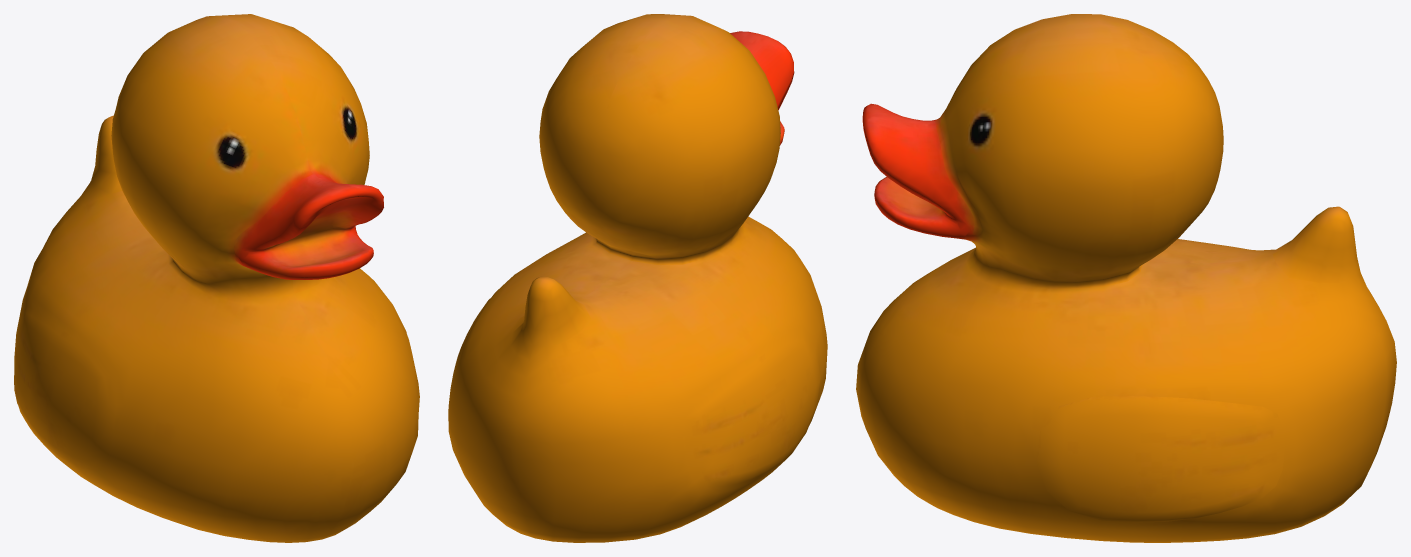
File: rubber_duck_toy.glb
The picture shows the model from 3 angles, left to right: view 1: azimuth 30°, elevation 25°; view 2: azimuth 150°, elevation 25°; view 3: azimuth 270°, elevation 25°; orthographic projection. The views are drawn at different scales.
Parts seen in each view (by area): view 1: rubber_duck_toy; view 2: rubber_duck_toy; view 3: rubber_duck_toy.
Boxes of the visible parts, x1,y1,x2,y2 form: rubber_duck_toy: (14, 14, 419, 542); rubber_duck_toy: (448, 14, 827, 542); rubber_duck_toy: (856, 14, 1396, 542).
Bounding box in the file's own units: 0.2135 × 0.2855 × 0.3.
1 material, 1 textured.
